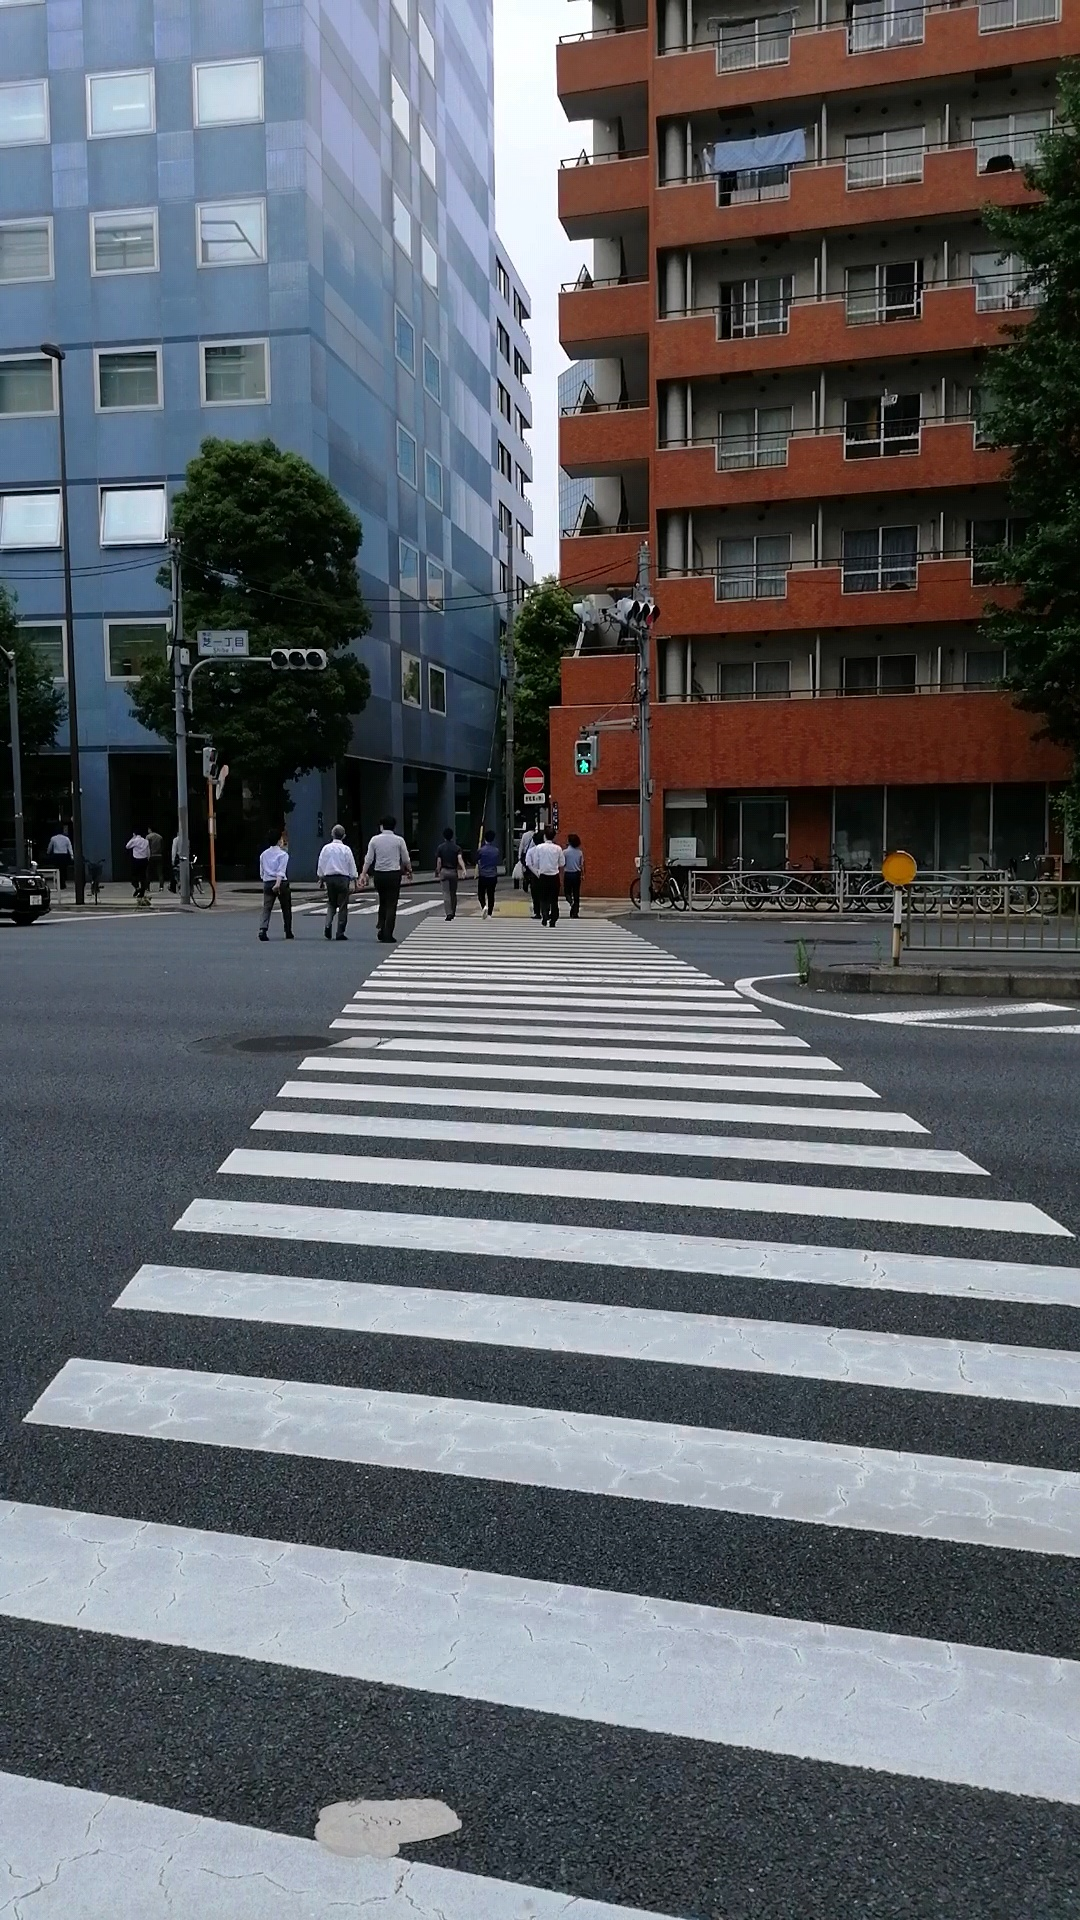green: (574, 737, 595, 777)
